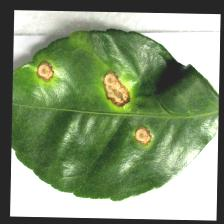canker: (33, 53, 170, 156)
